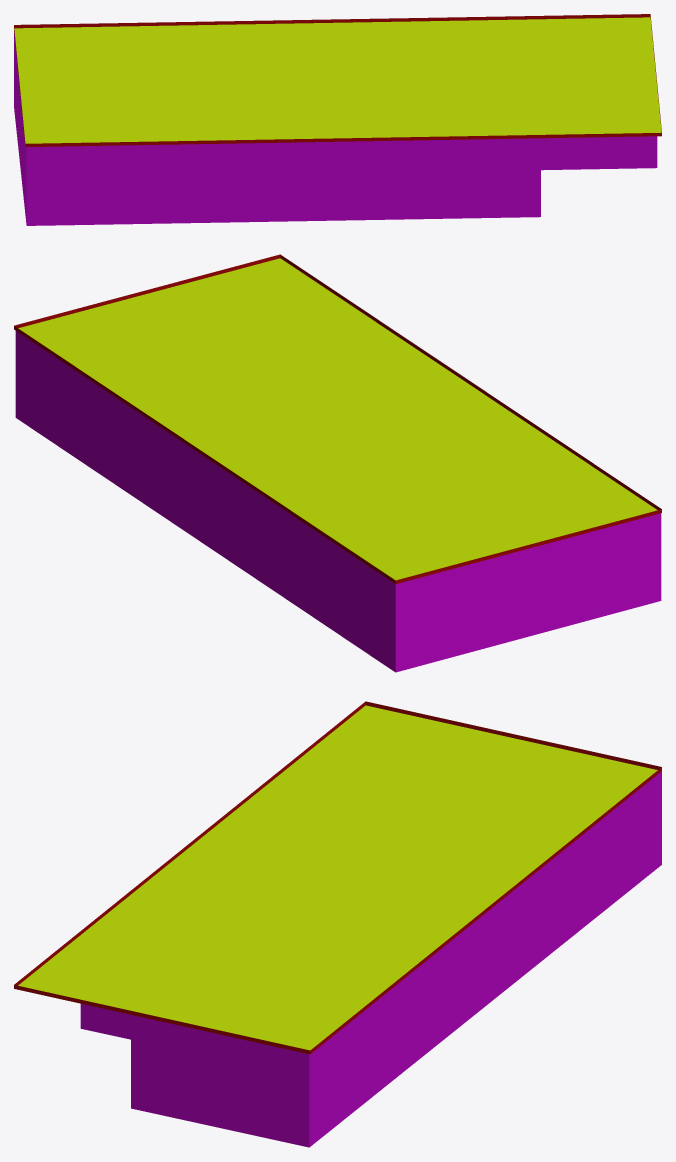
File: ssv_48.glb
The picture shows the model from 3 angles, top to bottom: view 1: azimuth 30°, elevation 25°; view 2: azimuth 150°, elevation 25°; view 3: azimuth 270°, elevation 25°; orthographic projection. The views are drawn at different scales.
Parts seen in each view (by area): view 1: ssv_48; view 2: ssv_48; view 3: ssv_48.
Part boxes in pixels (left/top/right/bottom): ssv_48: left=14, top=14, right=661, bottom=225; ssv_48: left=14, top=254, right=661, bottom=672; ssv_48: left=14, top=701, right=661, bottom=1147.
Bounding box in the file's own units: 65.31 × 8.53 × 51.22.
